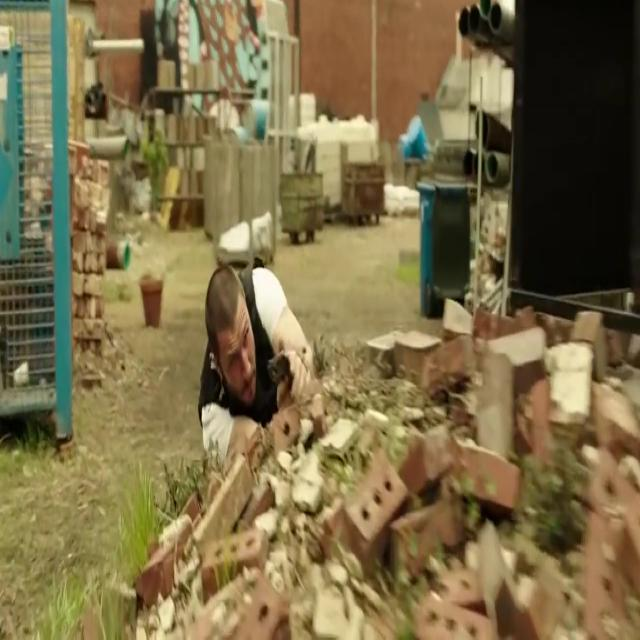Weapon: (263, 340, 303, 400)
